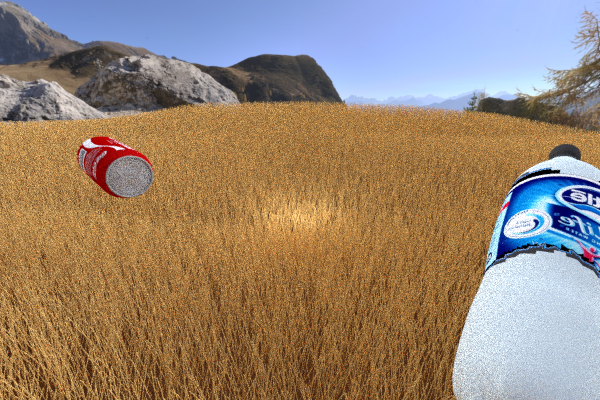bottle: (452, 144, 600, 400)
can: (76, 136, 153, 198)
